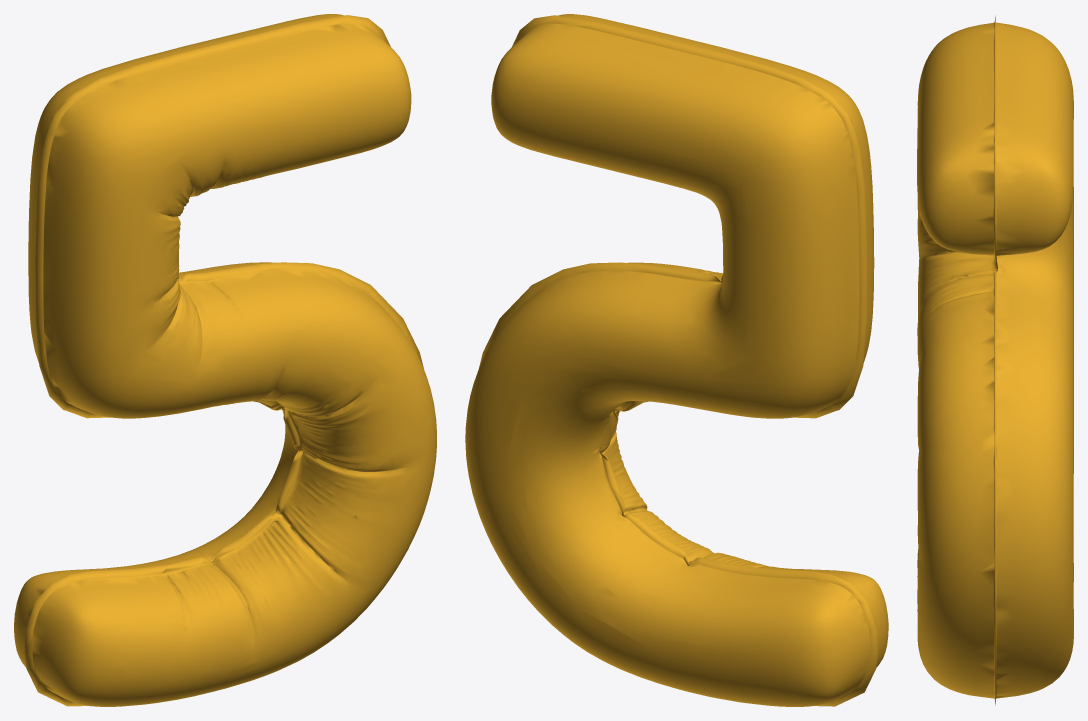
File: zahlen-gold-nr5-gruppe.glb
The picture shows the model from 3 angles, left to right: view 1: azimuth 30°, elevation 25°; view 2: azimuth 150°, elevation 25°; view 3: azimuth 270°, elevation 25°; orthographic projection. The views are drawn at different scales.
Parts seen in each view (by area): view 1: nr5; view 2: nr5; view 3: nr5.
Part boxes in pixels (bbox=[...]): nr5: bbox=[14, 14, 436, 706]; nr5: bbox=[465, 14, 888, 706]; nr5: bbox=[917, 15, 1073, 705].
Size of the model in its own units: 0.4078 by 0.6147 by 0.1413.
